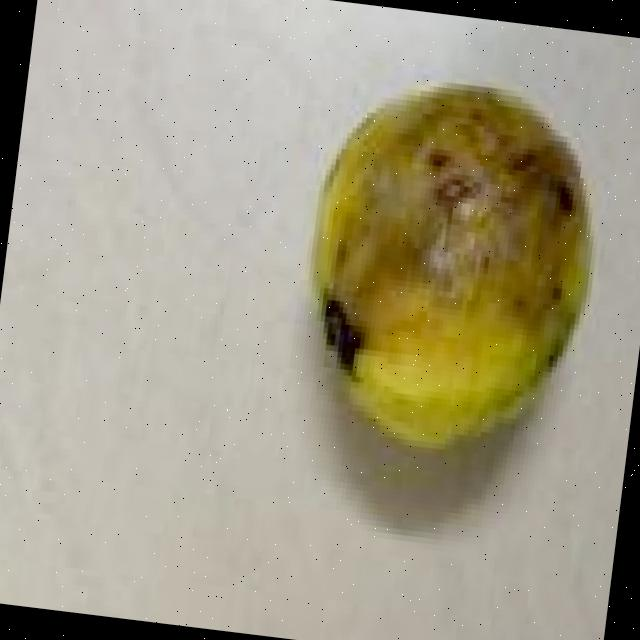Bad_Guava 0 day: (312, 84, 583, 441)
